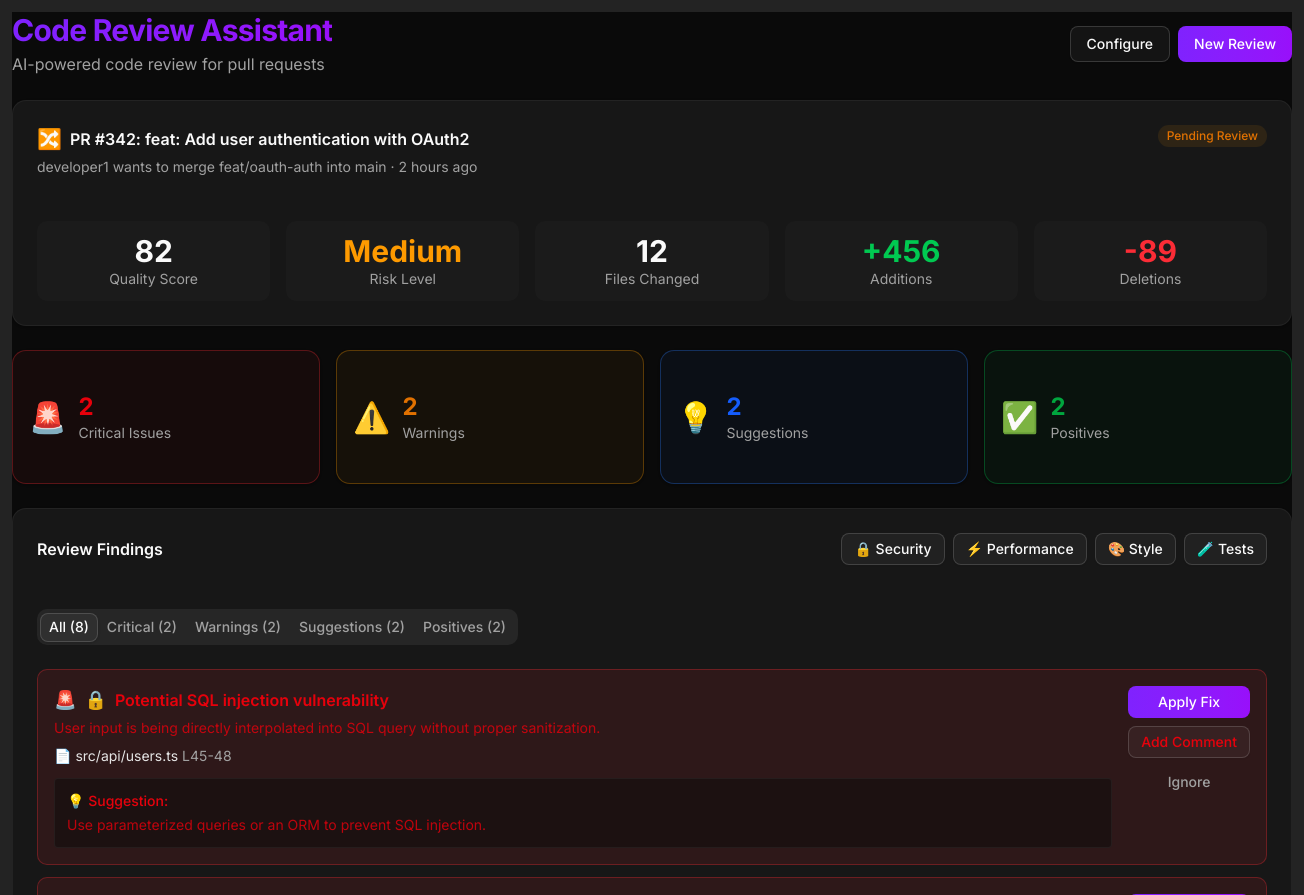
Test: CodeReviewPage › ignores finding
The width and height of the screenshot is (1304, 895).
What coordinates should you click on to do the following:
click the button "Ignore"
I would click on:
 (1189, 782)
Its box is [1128,766,1250,798].
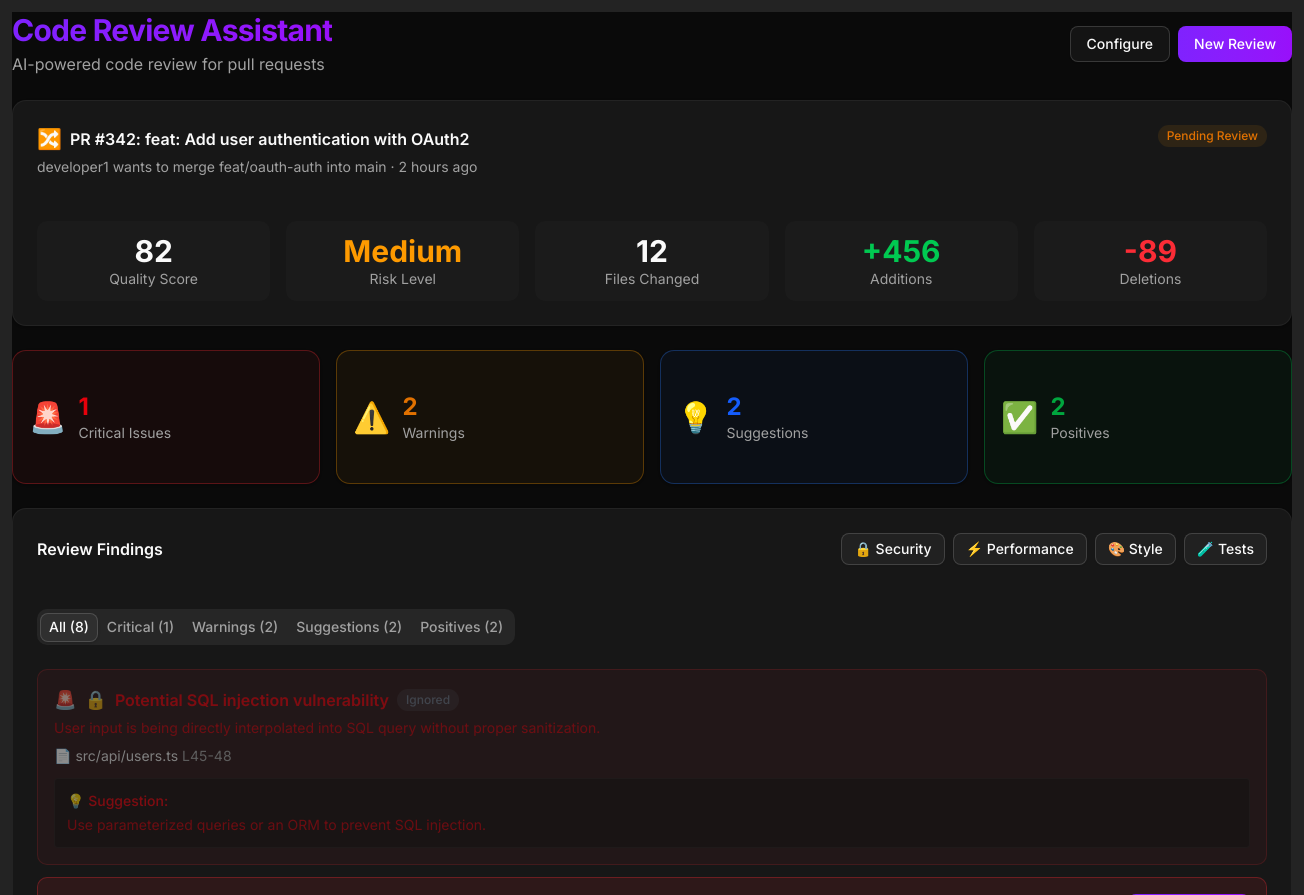
Now the text "Ignored" is shown, box [397,689,459,711]
